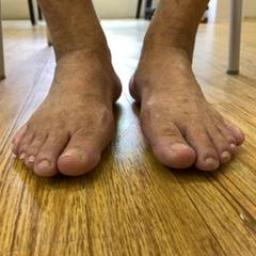Front View -Both Feet-: (1, 22, 252, 196)
